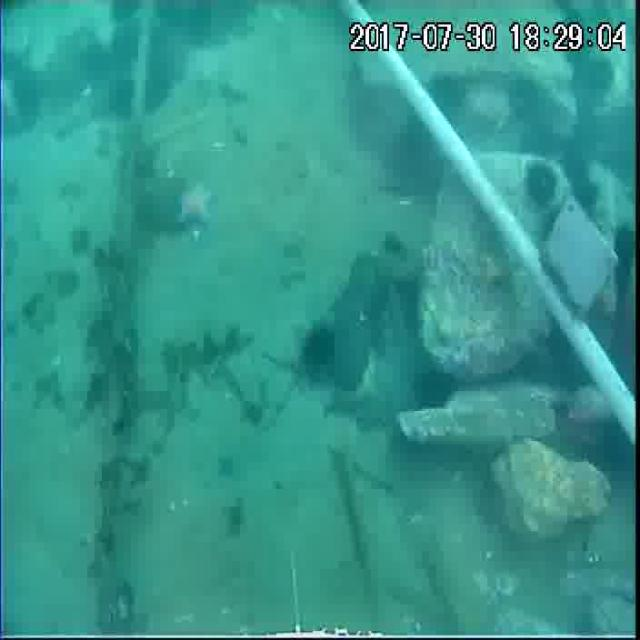echinus: (295, 316, 342, 386), (408, 361, 458, 416), (388, 121, 430, 181), (428, 69, 471, 118), (9, 69, 46, 118), (524, 160, 561, 208), (508, 77, 546, 123), (581, 51, 616, 98), (107, 22, 144, 66), (572, 167, 604, 216), (79, 44, 113, 89), (612, 219, 640, 270), (107, 71, 138, 116)
starfish: (173, 176, 217, 231)
